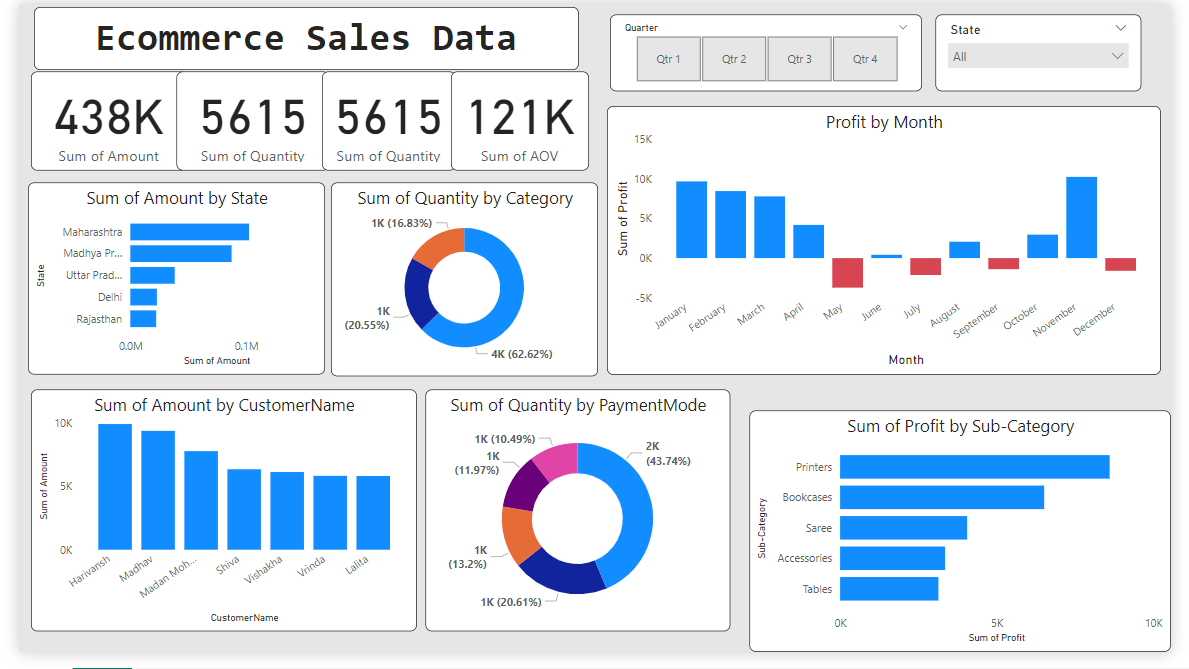

Layout of this report page (visuals, bound fields, positions):
{"tool":"powerbi","page":{"name":"Page 1","canvas":[1280,720],"ordinal":0},"visuals":[{"type":"textbox","box":[16.7,3.3,605,70],"z":0},{"type":"columnChart","title":"Profit by Month","fields":{"Y":["Details.Profit"],"Category":["Orders.Order Date.Variation.Date Hierarchy.Month"]},"box":[653.3,113.3,615,298.3],"z":1000},{"type":"barChart","fields":{"Category":["Details.Sub-Category"],"Y":["Details.Profit"]},"box":[812,452,468,268],"z":2000},{"type":"donutChart","fields":{"Category":["Details.Category"],"Y":["Details.Quantity"]},"box":[346.7,198.3,296.7,215],"z":3000},{"type":"donutChart","fields":{"Category":["Details.PaymentMode"],"Y":["Details.Quantity"]},"box":[451.7,428.3,338.3,268.3],"z":4000},{"type":"card","fields":{"Values":["Details.Amount"]},"box":[13.3,75,173.3,110],"z":5000},{"type":"card","fields":{"Values":["Details.Quantity"]},"box":[175,75,170,110],"z":6000},{"type":"card","fields":{"Values":["Details.Quantity"]},"box":[336.7,75,148.3,110],"z":7000},{"type":"card","fields":{"Values":["Details.AOV"]},"box":[480,75,153.3,110],"z":8000},{"type":"barChart","fields":{"Category":["Orders.State"],"Y":["Details.Amount"]},"box":[10,198.3,330,213.3],"z":9000},{"type":"columnChart","fields":{"Category":["Orders.CustomerName"],"Y":["Details.Amount"]},"box":[13.3,428.3,428.3,268.3],"z":10000},{"type":"slicer","fields":{"Values":["Orders.Order Date.Variation.Date Hierarchy.Quarter"]},"box":[656.7,11.7,346.7,85],"z":11000},{"type":"slicer","fields":{"Values":["Orders.State"]},"box":[1018.3,11.7,228.3,85],"z":12000}]}

Visuals, with their boxes in screenshot pixels (x1, y1, x2, y2), scaled from the page's 1280x720 canvas onto the 1189x669 screenshot:
textbox: [16,3,578,68]
"Profit by Month" columnChart: [607,105,1178,382]
barChart - Details.Sub-Category x Details.Profit: [754,420,1188,668]
donutChart - Details.Category x Details.Quantity: [322,184,598,384]
donutChart - Details.PaymentMode x Details.Quantity: [420,398,734,647]
card - Details.Amount: [12,70,173,172]
card - Details.Quantity: [163,70,320,172]
card - Details.Quantity: [313,70,451,172]
card - Details.AOV: [446,70,588,172]
barChart - Orders.State x Details.Amount: [9,184,316,382]
columnChart - Orders.CustomerName x Details.Amount: [12,398,410,647]
slicer - Orders.Order Date.Variation.Date Hierarchy.Quarter: [610,11,932,90]
slicer - Orders.State: [946,11,1158,90]
